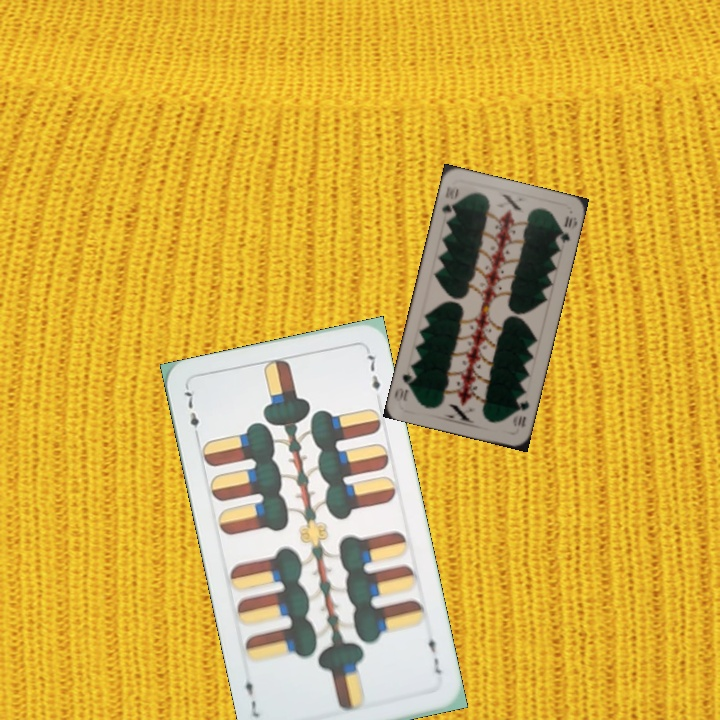E7: (180, 384, 202, 442), (424, 628, 445, 677)
G10: (438, 184, 461, 222), (509, 397, 532, 430)
